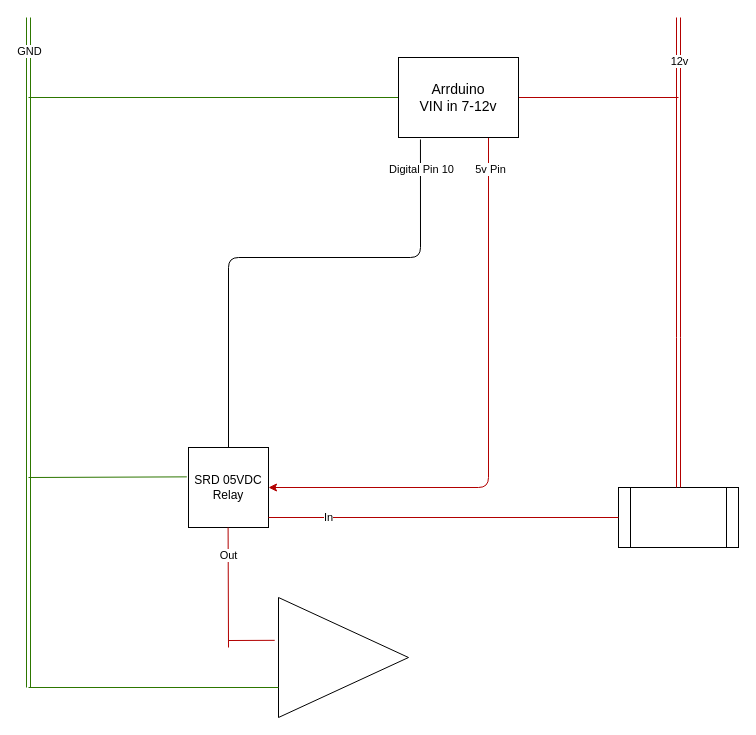
This 756x735 diagram has some shape labels left out. Each missing label, with the centre of its shape:
Nerf Gun 6v: the point at 343,657
Voltage regulator 6v: the point at 678,517
